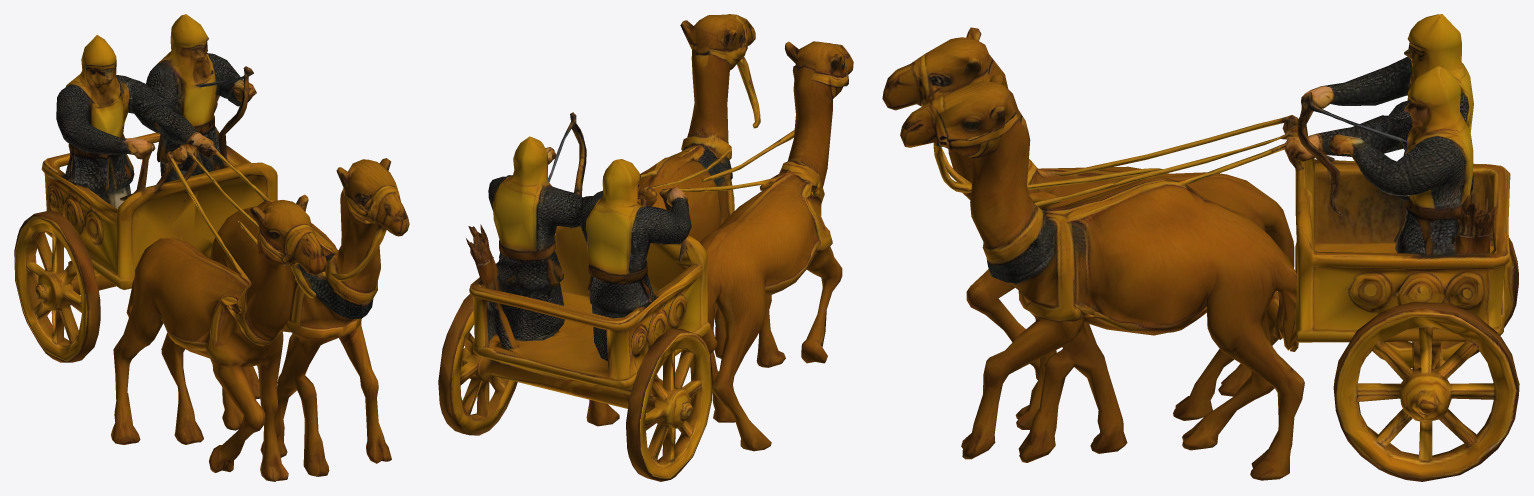
3 renders of one model, left to right at view 1: azimuth 30°, elevation 25°; view 2: azimuth 150°, elevation 25°; view 3: azimuth 270°, elevation 25°, orthographic. The views are drawn at different scales.
Parts seen in each view (by area): view 1: tripo_node_935e6777-027d-4a51-ab6d-f00e197a6926; view 2: tripo_node_935e6777-027d-4a51-ab6d-f00e197a6926; view 3: tripo_node_935e6777-027d-4a51-ab6d-f00e197a6926.
Part boxes in pixels (x1,y1,x2,y2): tripo_node_935e6777-027d-4a51-ab6d-f00e197a6926: [14, 14, 409, 481]; tripo_node_935e6777-027d-4a51-ab6d-f00e197a6926: [438, 14, 853, 481]; tripo_node_935e6777-027d-4a51-ab6d-f00e197a6926: [882, 14, 1519, 481].
Size of the model in its own units: 0.5111 by 0.7133 by 0.999.
1 material, 1 textured.
